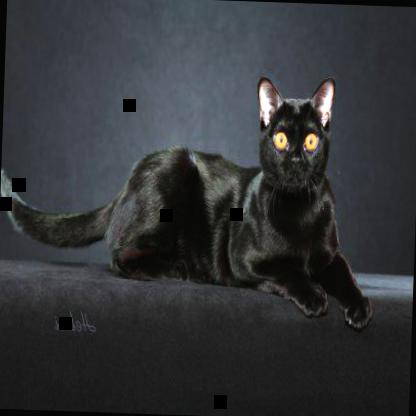cat: (0, 67, 382, 334)
